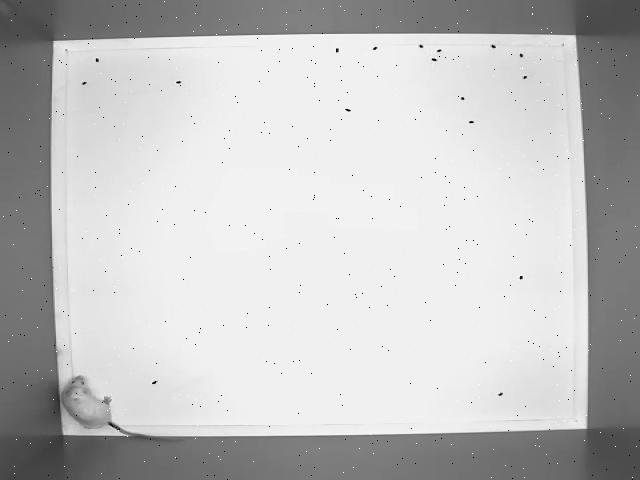Tikus: (58, 371, 197, 445)
